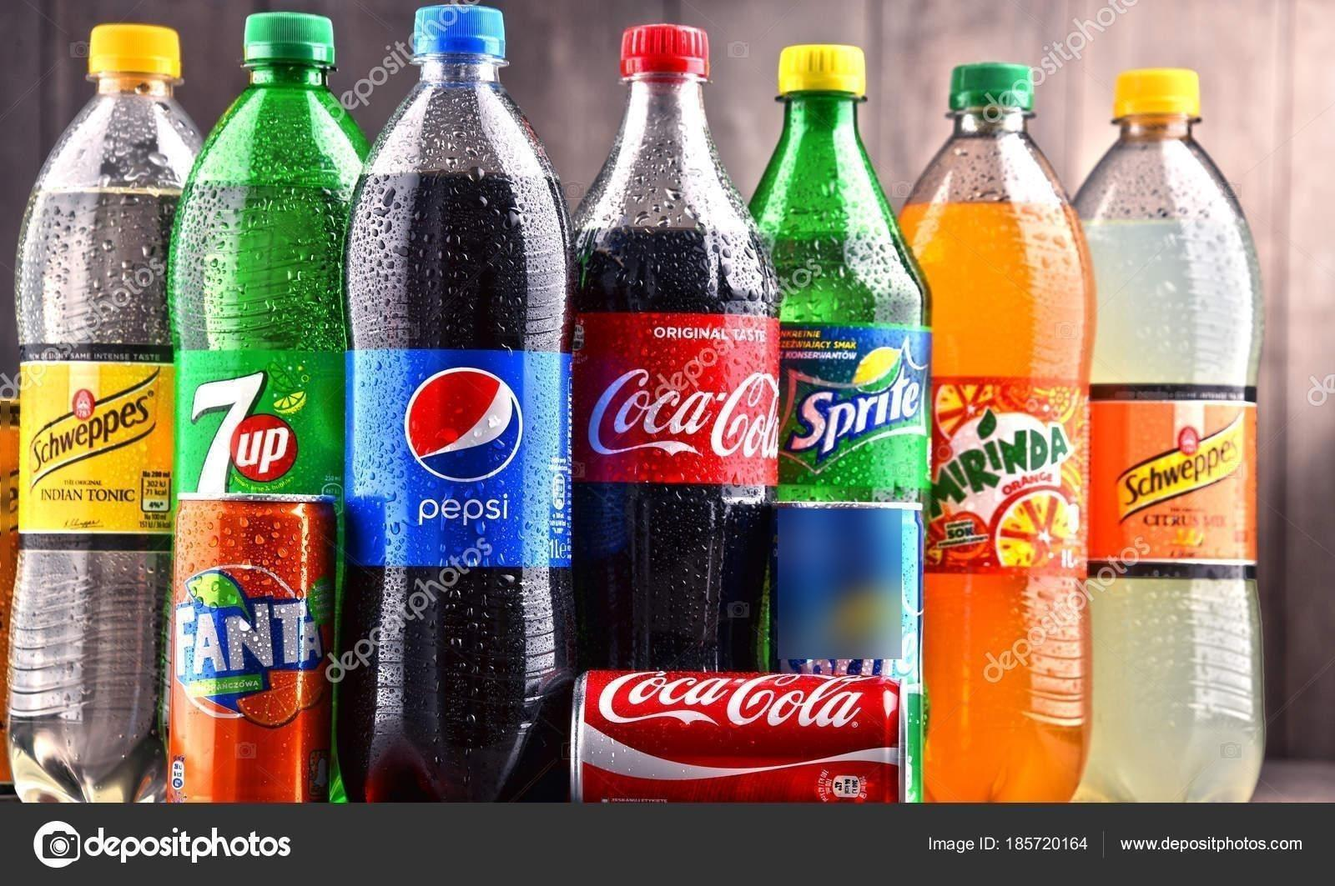bottle-plastic: (336, 1, 579, 804), (1074, 58, 1278, 810), (904, 48, 1103, 804), (13, 19, 204, 804), (561, 13, 771, 670), (160, 3, 378, 492), (750, 37, 939, 502)
tin can: (164, 483, 345, 810), (557, 656, 914, 804)
